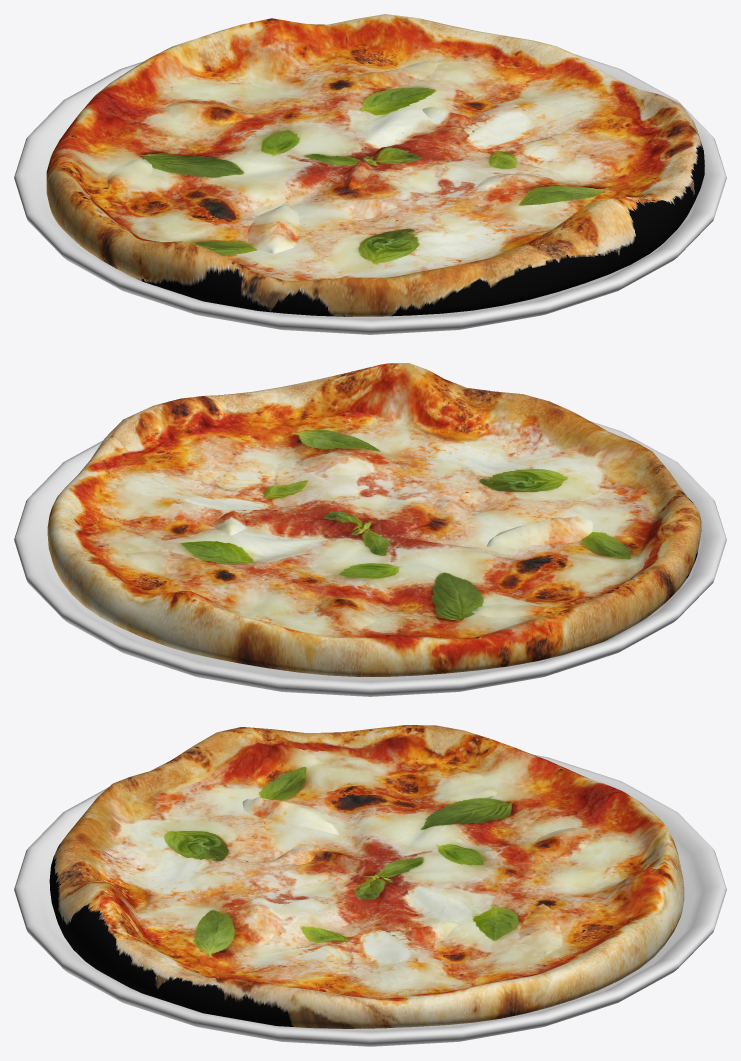
File: pepperoni-pizza.glb
3 views of the same model, one above another, from view 1: azimuth 30°, elevation 25°; view 2: azimuth 150°, elevation 25°; view 3: azimuth 270°, elevation 25° (orthographic).
Visible parts, largest first — view 1: Pizza; view 2: Pizza; view 3: Pizza.
Part boxes in pixels (x1,y1,x2,y2): Pizza: (14, 14, 726, 334); Pizza: (14, 363, 726, 696); Pizza: (14, 725, 726, 1046).
Size of what is drawn, in the model's own units: 2.29 by 0.2643 by 2.29.
4 materials, 2 textured.
